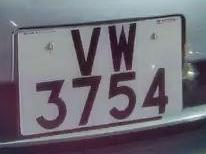3: (29, 73, 70, 137)
4: (139, 63, 174, 122)
5: (103, 67, 141, 127)
7: (68, 73, 106, 130)
V: (63, 20, 107, 81)
W: (101, 18, 144, 78)
